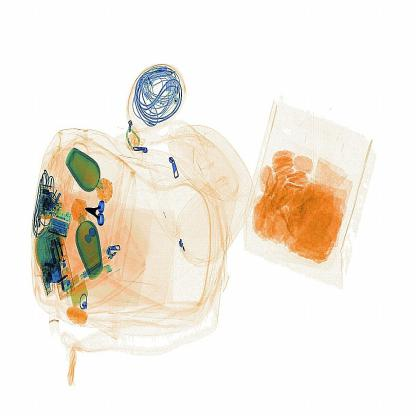gun: (79, 194, 117, 223)
